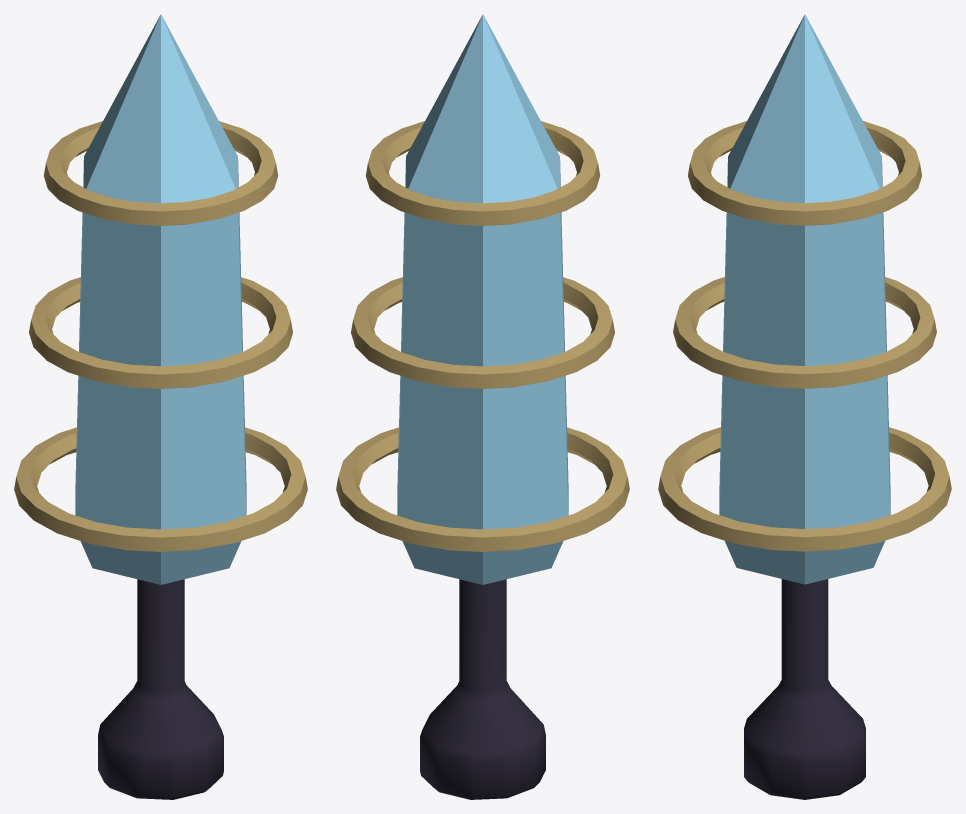
The model's file is Kit_Active_LeaguePhase.glb.
The picture shows the model from 3 angles, left to right: view 1: azimuth 30°, elevation 25°; view 2: azimuth 150°, elevation 25°; view 3: azimuth 270°, elevation 25°; orthographic projection.
Parts seen in each view (by area): view 1: Kit_Active_LeaguePhase; view 2: Kit_Active_LeaguePhase; view 3: Kit_Active_LeaguePhase.
Boxes of the visible parts, box(x1,y1,x2,y2) form: Kit_Active_LeaguePhase: box(14, 14, 307, 799); Kit_Active_LeaguePhase: box(336, 14, 629, 799); Kit_Active_LeaguePhase: box(658, 14, 951, 799).
Bounding box in the file's own units: 0.1189 × 0.34 × 0.1189.
